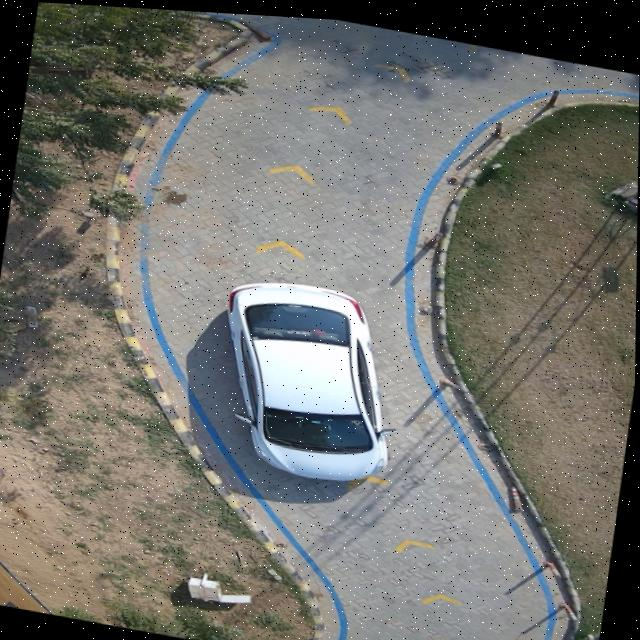car: (227, 278, 394, 476)
